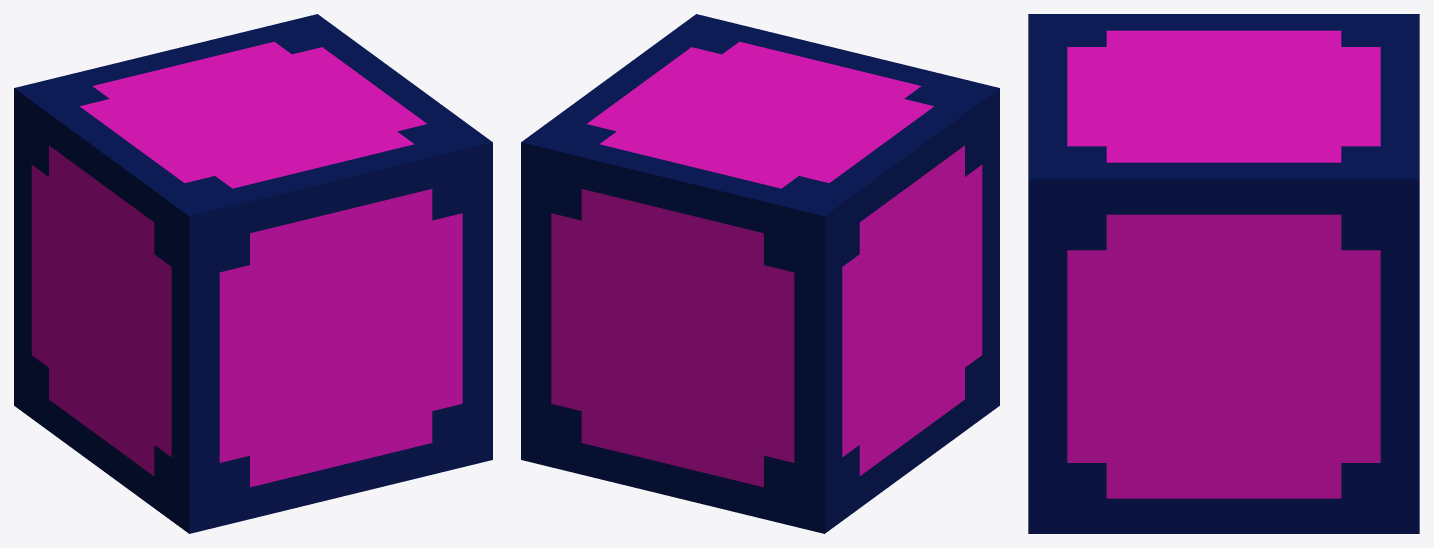
File: Test_Wall_2.obj
3 views of the same model, side by side, from view 1: azimuth 30°, elevation 25°; view 2: azimuth 150°, elevation 25°; view 3: azimuth 270°, elevation 25° (orthographic). The views are drawn at different scales.
Bounding box in the file's own units: 1 × 1 × 1.
Materials: 1 (1 with a texture image).
